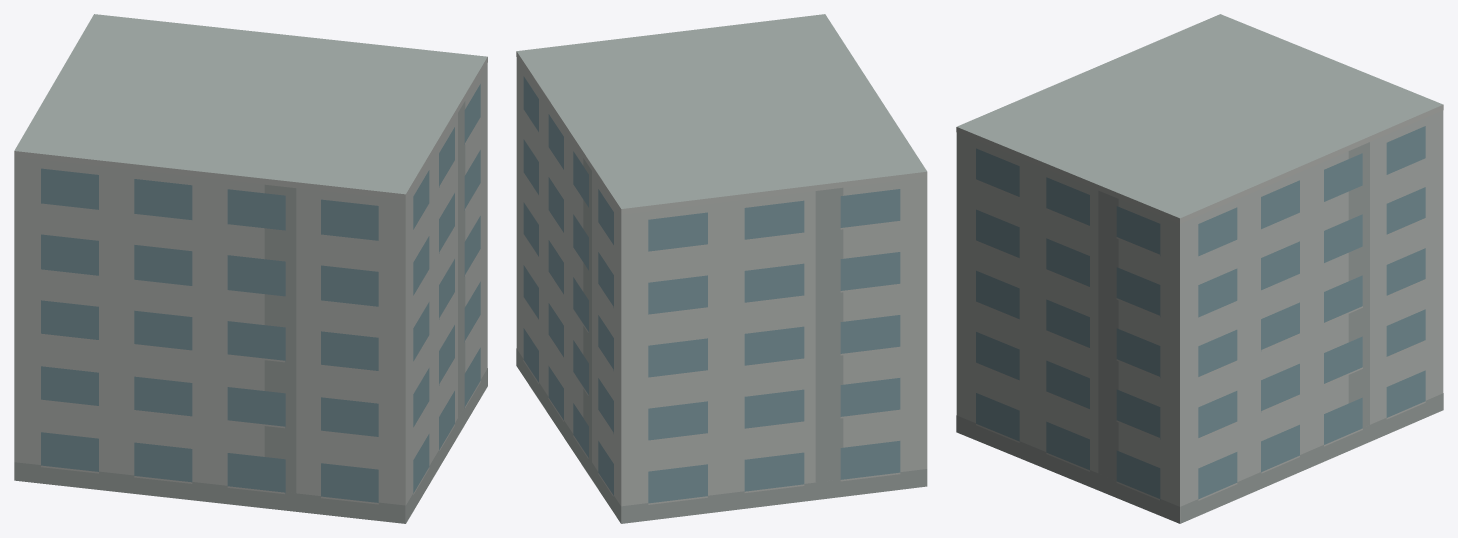
The model's file is survey-upis-33020169.glb.
3 renders of one model, left to right at view 1: azimuth 30°, elevation 25°; view 2: azimuth 150°, elevation 25°; view 3: azimuth 270°, elevation 25°, orthographic. The views are drawn at different scales.
Parts seen in each view (by area): view 1: survey-upis-33020169.tmp; view 2: survey-upis-33020169.tmp; view 3: survey-upis-33020169.tmp.
Boxes of the visible parts, x1,y1,x2,y2 form: survey-upis-33020169.tmp: [14, 14, 487, 523]; survey-upis-33020169.tmp: [516, 14, 927, 523]; survey-upis-33020169.tmp: [956, 14, 1443, 523].
Size of the model in its own units: 19.09 by 13.3 by 19.22.
